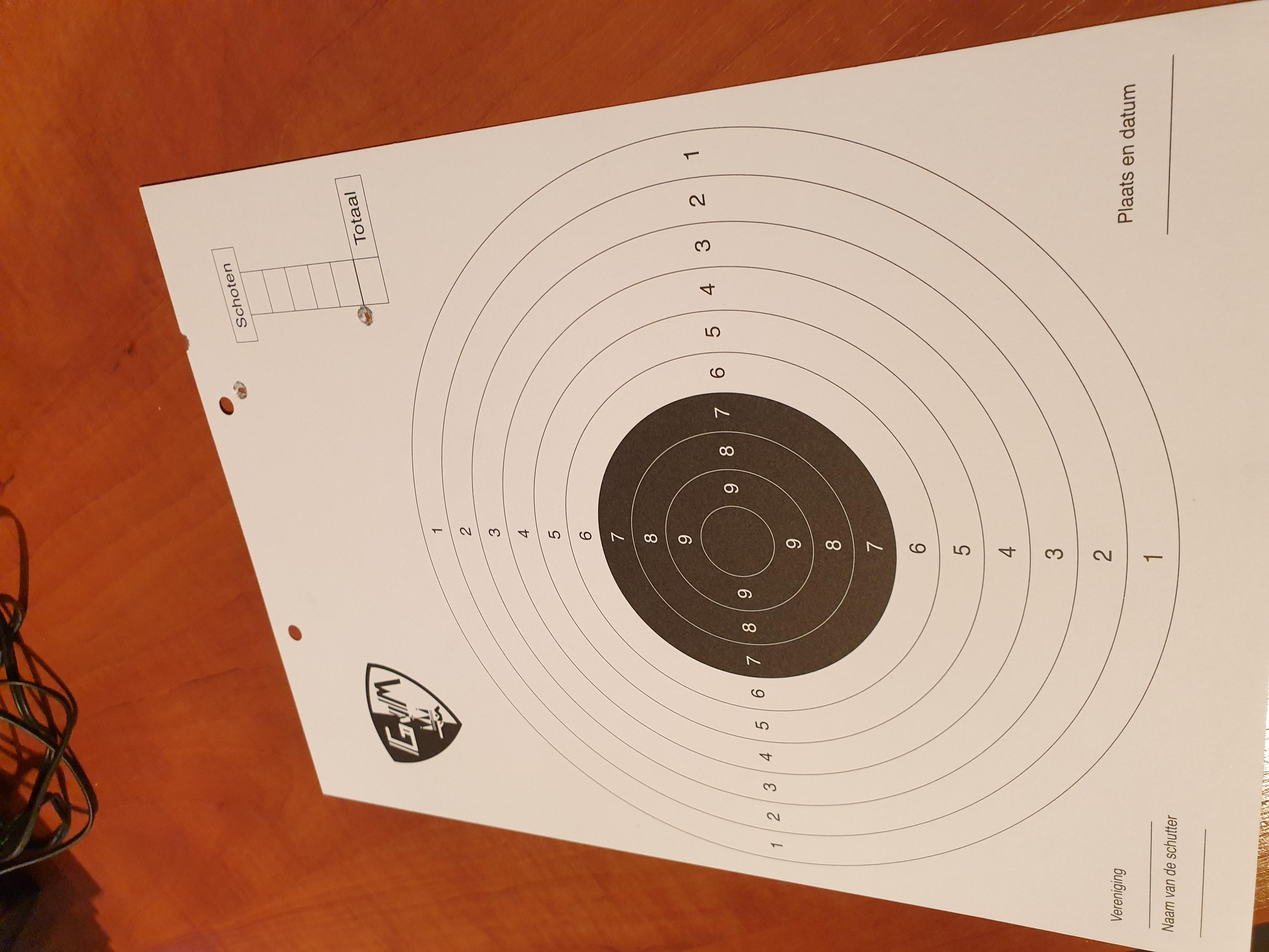hole: (832, 267, 862, 281), (735, 173, 763, 186)
